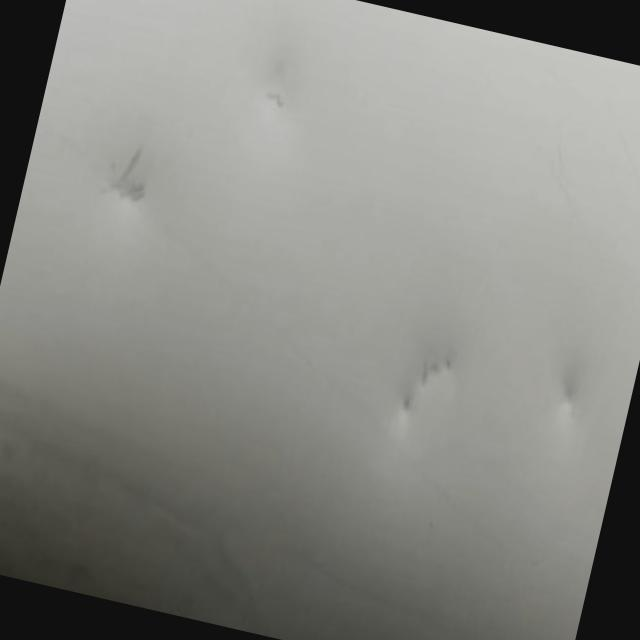dent: (357, 299, 484, 456), (540, 350, 607, 436), (257, 48, 317, 130), (84, 150, 152, 214)
